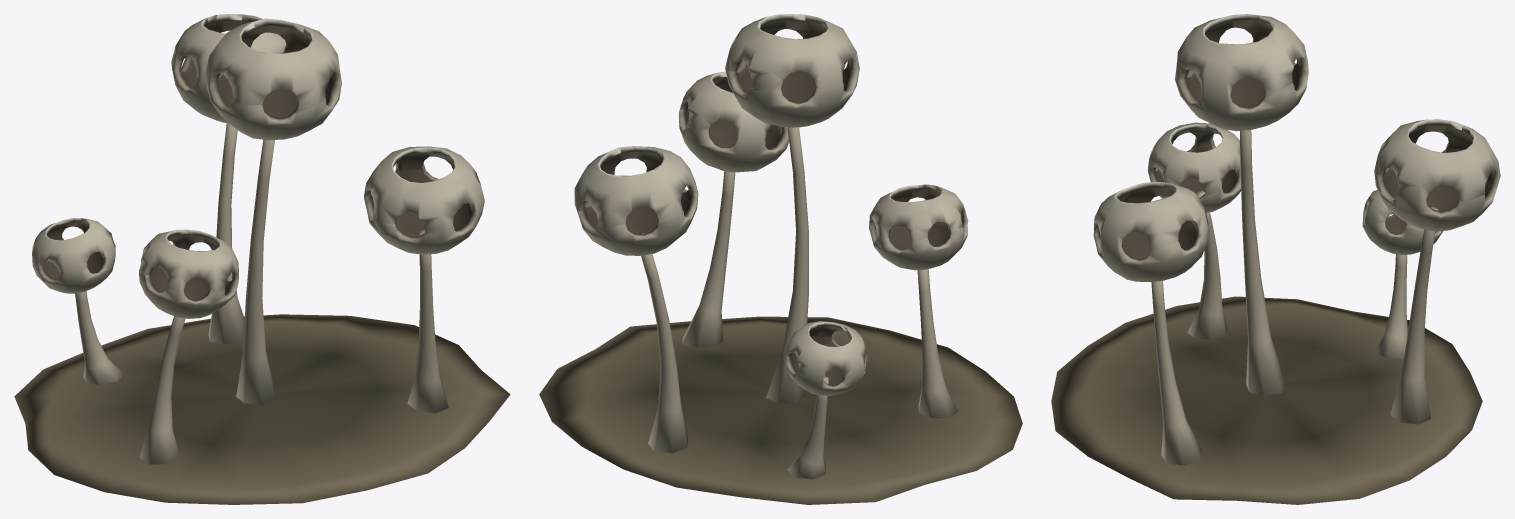
Rendered from Namacalathus.fbx.
The picture shows the model from 3 angles, left to right: view 1: azimuth 30°, elevation 25°; view 2: azimuth 150°, elevation 25°; view 3: azimuth 270°, elevation 25°; orthographic projection. The views are drawn at different scales.
Parts seen in each view (by area): view 1: Namacalathus; view 2: Namacalathus; view 3: Namacalathus.
Part boxes in pixels (box(x1,y1,x2,y2)): Namacalathus: box(14, 14, 510, 504); Namacalathus: box(539, 14, 1022, 504); Namacalathus: box(1051, 14, 1500, 504).
Size of the model in its own units: 1.17 by 0.9855 by 1.06.
